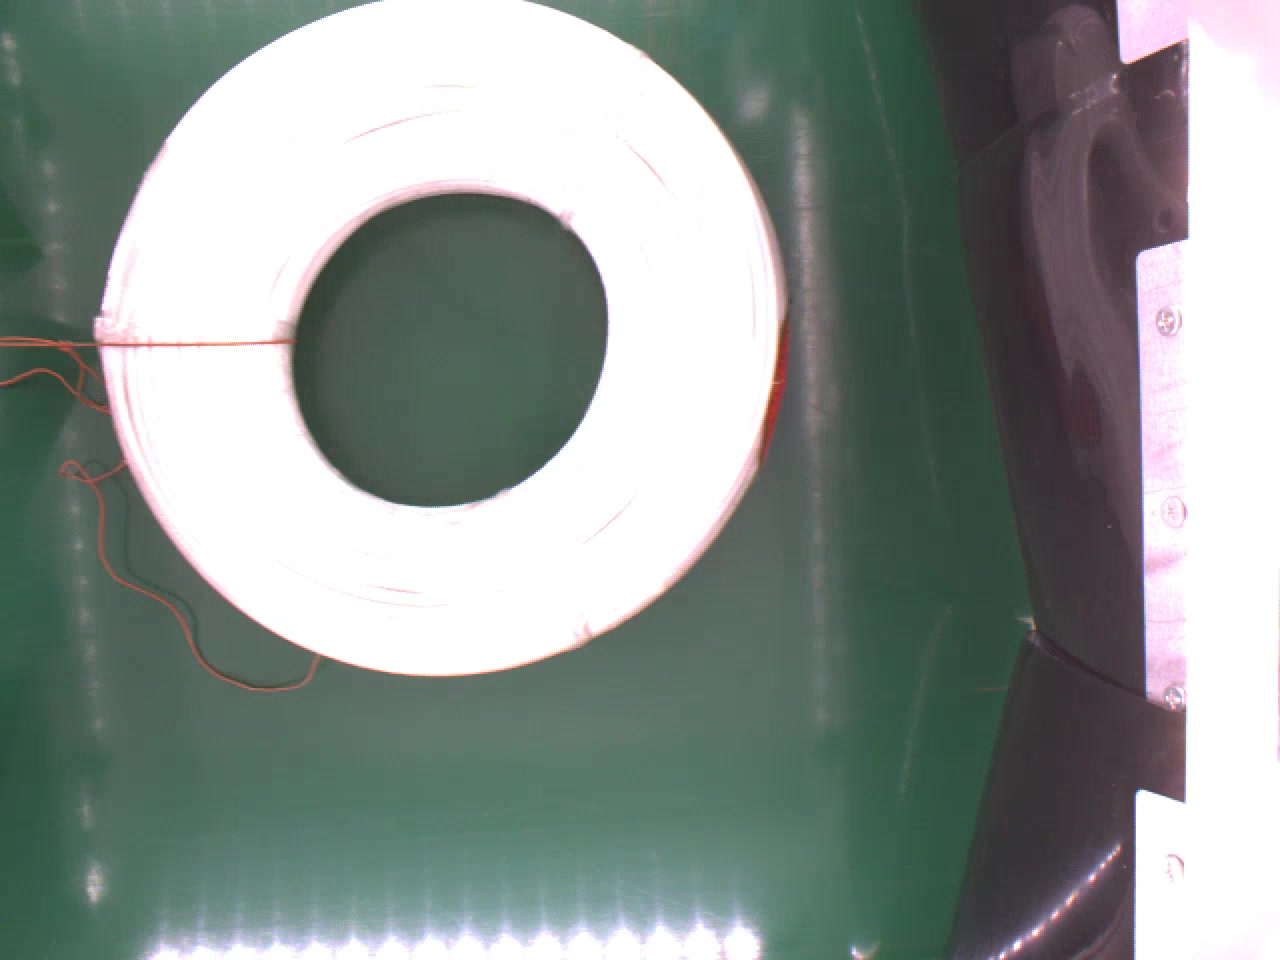white: (94, 0, 786, 685)
